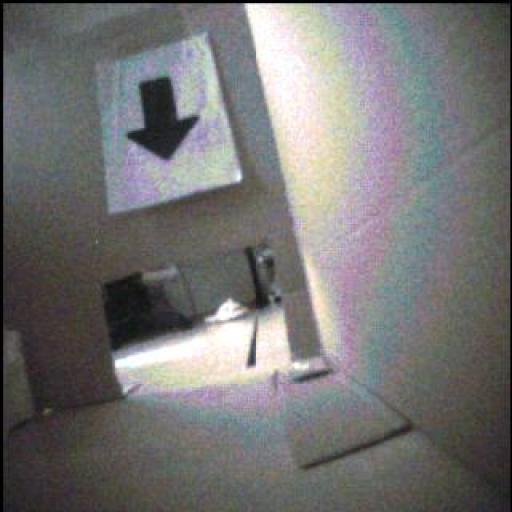arrow: (128, 78, 200, 161)
